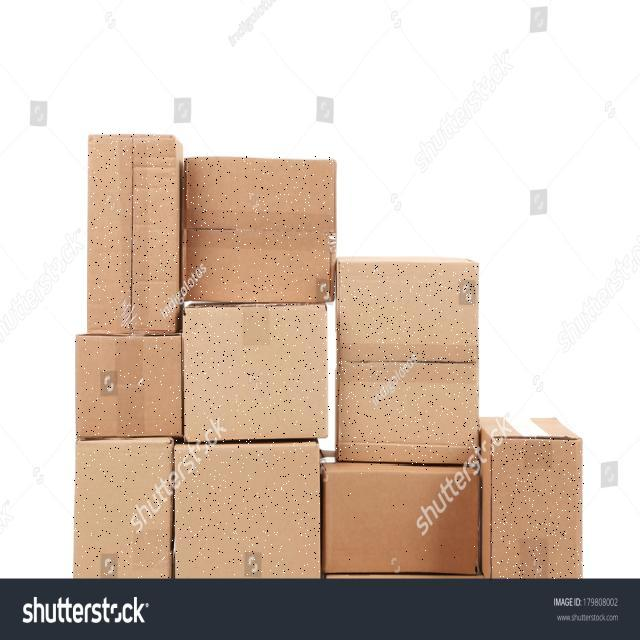BoxFace: (336, 264, 479, 466), (183, 156, 335, 302), (183, 304, 330, 440), (174, 440, 320, 575), (88, 133, 179, 334), (324, 466, 482, 572), (72, 444, 174, 578), (490, 438, 584, 580), (75, 334, 184, 439)
